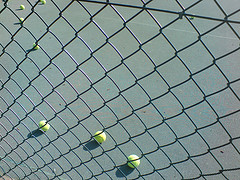tennis ball: (91, 129, 108, 145), (127, 154, 142, 170), (37, 119, 52, 132), (16, 16, 27, 24), (32, 42, 40, 51), (18, 2, 26, 11), (40, 1, 49, 6)
